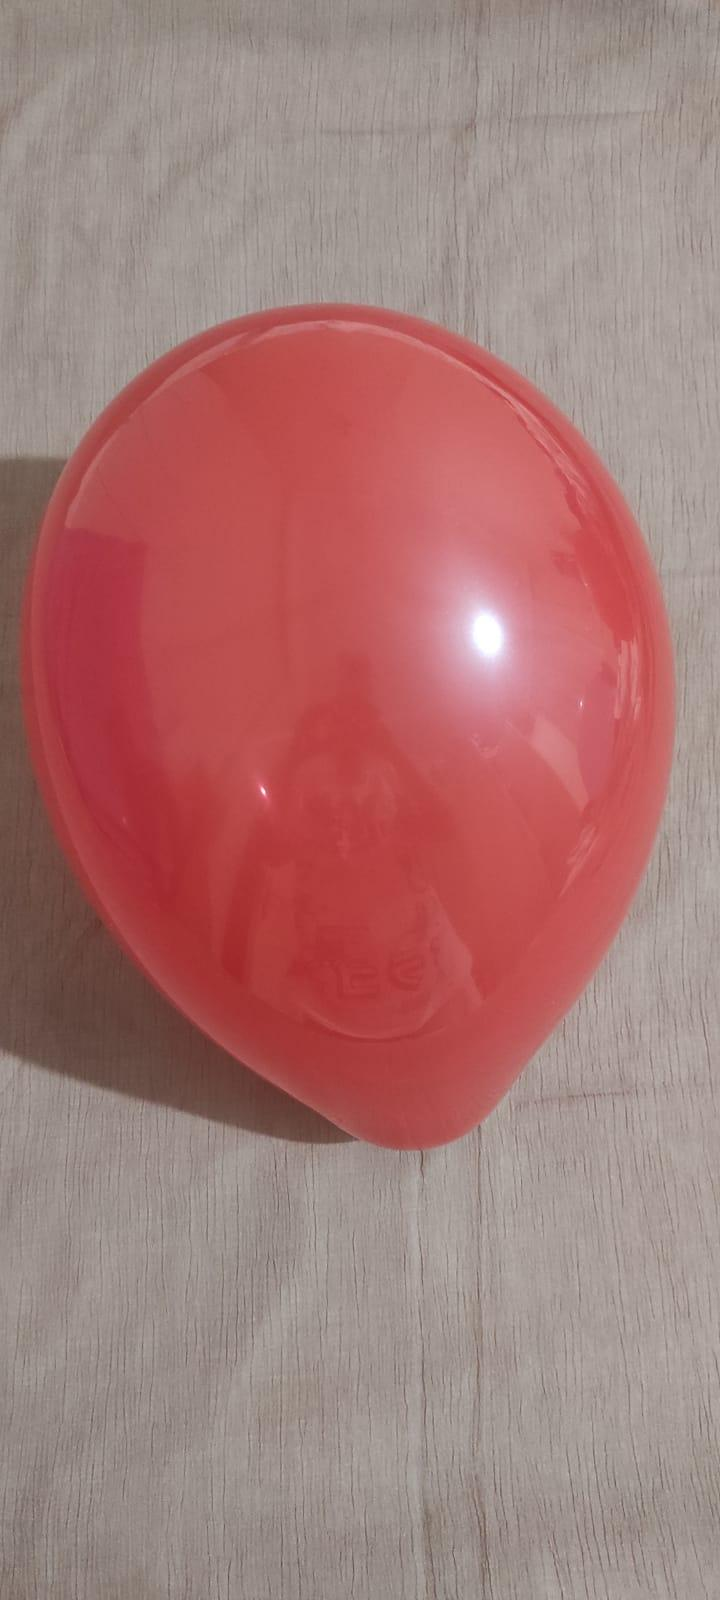red: (20, 288, 687, 1160)
